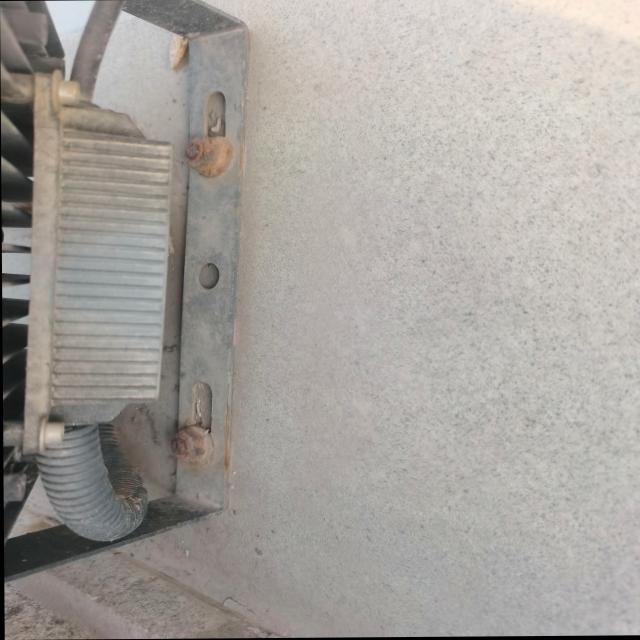Rusty bolt: (186, 137, 222, 171), (173, 428, 207, 463)
